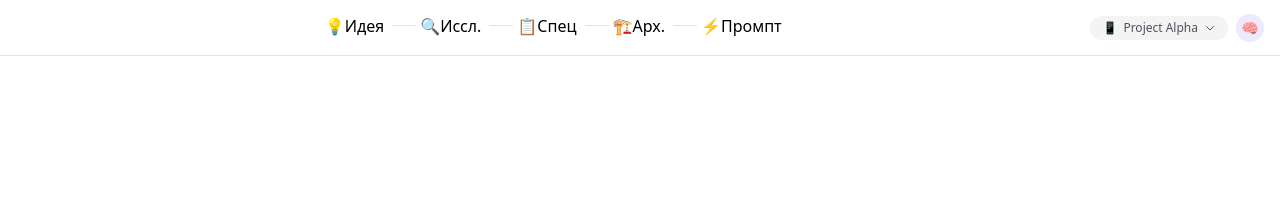
B. Dropdown — project list rendered › lists all projects from registry
Step 1. Click the button "📱 Project Alpha" → coordinates (1159, 28), box [1090,16,1228,40]
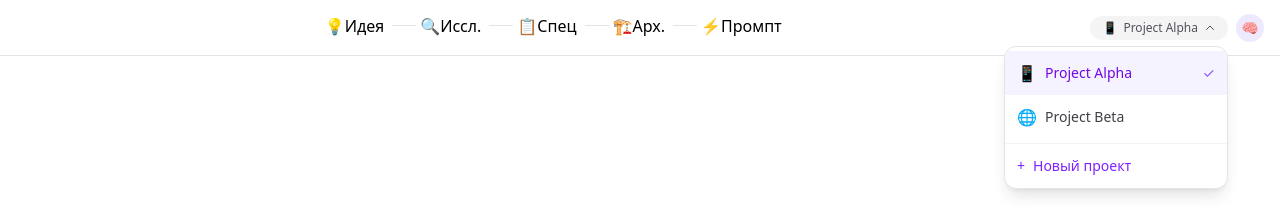
Expected: the text "Project Beta" is shown, [1045,106,1124,126]
